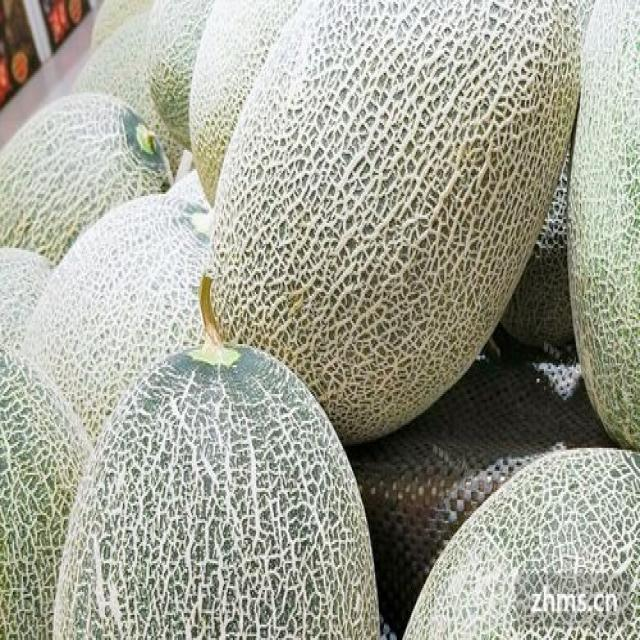Hami Melon: (204, 0, 586, 443), (55, 346, 379, 640), (20, 196, 218, 443), (407, 447, 640, 640), (2, 92, 170, 274)
